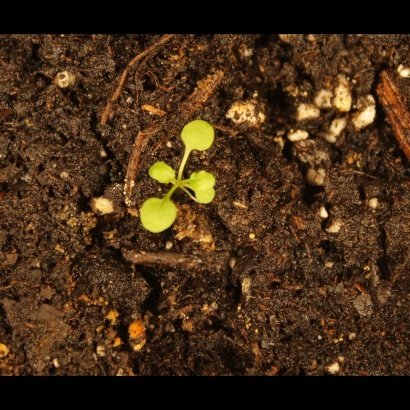leaf: (140, 192, 182, 237), (179, 112, 221, 156), (144, 160, 177, 187), (188, 168, 218, 195), (195, 185, 218, 208)
